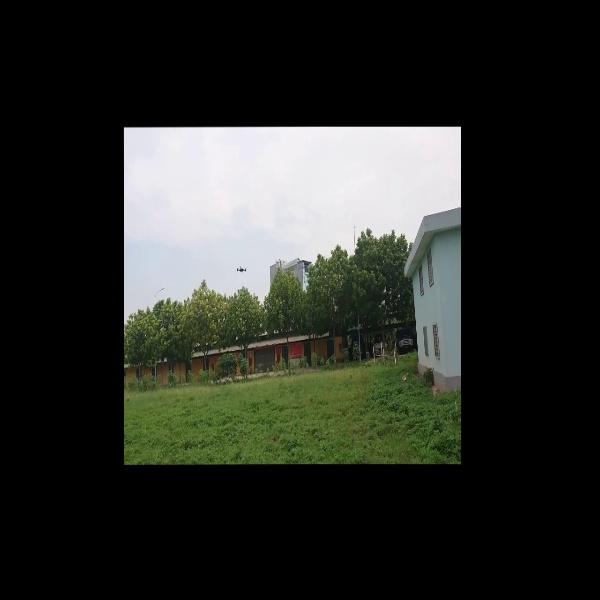drone: (231, 264, 248, 276)
